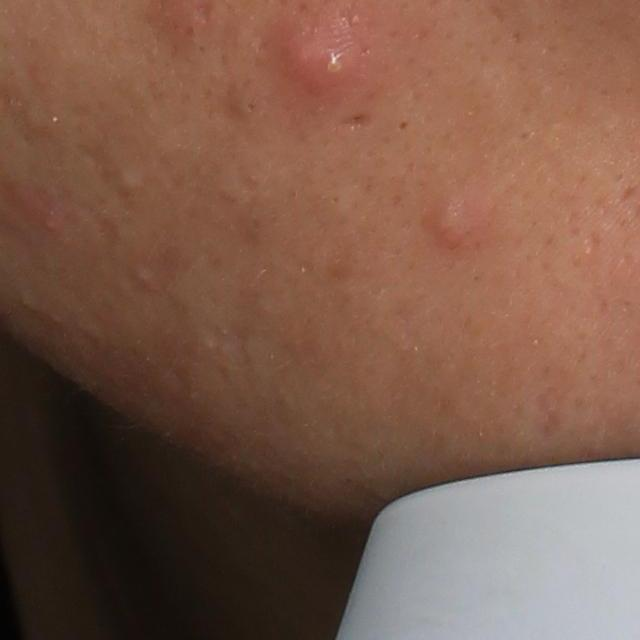atrophic_scar: (74, 127, 123, 193), (340, 111, 374, 129)
comedo: (135, 264, 156, 287), (236, 97, 260, 115), (391, 117, 412, 136)
papule: (412, 198, 485, 247)
